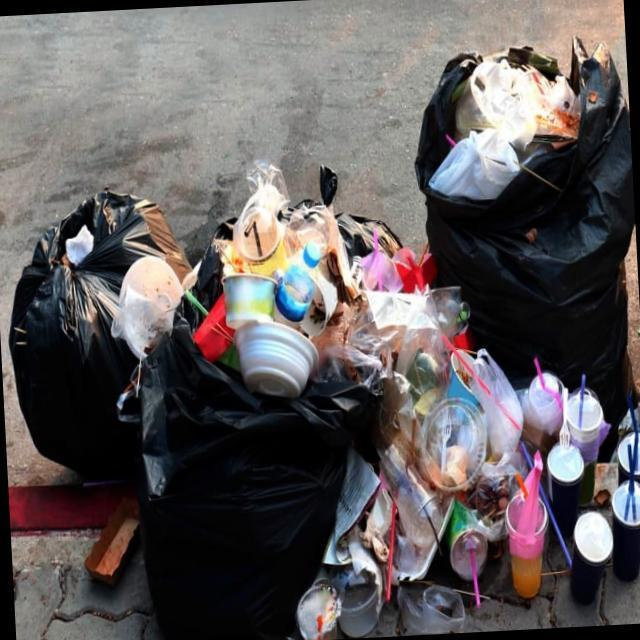garbage: (405, 29, 640, 442), (1, 180, 218, 503)
